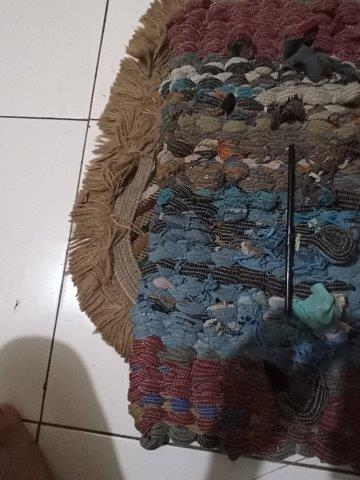sedotan: (284, 146, 295, 313)
